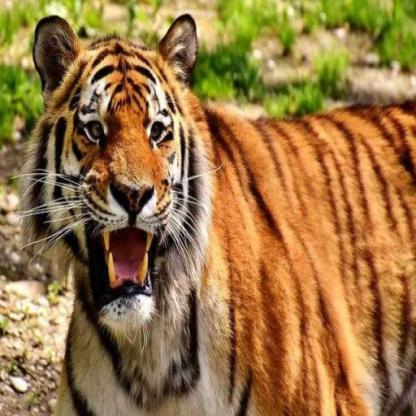Tiger: (24, 3, 415, 415)
